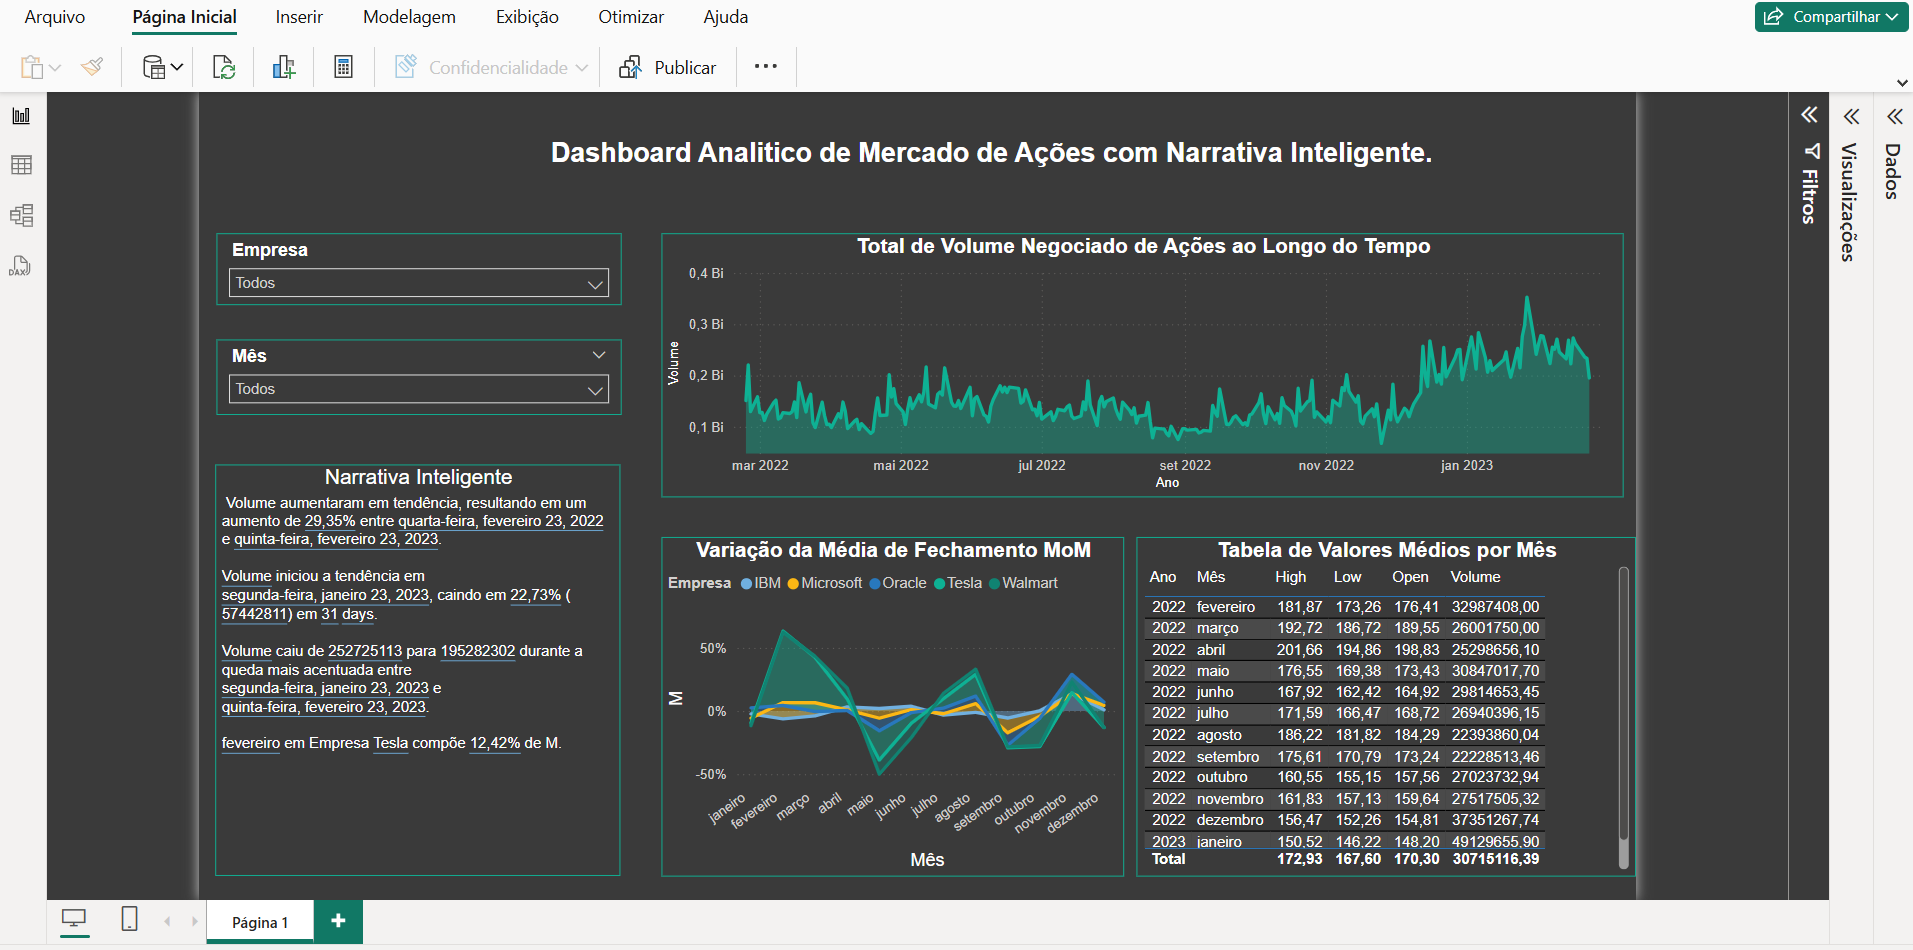

Layout of this report page (visuals, bound fields, positions):
{"tool":"powerbi","page":{"name":"Página 1","canvas":[1280,720],"ordinal":0},"visuals":[{"type":"areaChart","title":"Total de Volume Negociado de Ações ao Longo do Tempo","fields":{"Category":["StockMarket.Data.Variation.Hierarquia de datas.Ano","StockMarket.Data.Variation.Hierarquia de datas.Trimestre","StockMarket.Data.Variation.Hierarquia de datas.Mês","StockMarket.Data.Variation.Hierarquia de datas.Dia"],"Y":["Sum(StockMarket.Volume)"]},"box":[411.9,125.4,856.7,235.2],"z":0},{"type":"stackedAreaChart","title":"Variação da Média de Fechamento MoM","fields":{"Category":["StockMarket.Data.Variation.Hierarquia de datas.Mês"],"Series":["StockMarket.Empresa"],"Y":["StockMarket.Média de Close MoM%"]},"box":[411.9,396.3,411.9,302.2],"z":1000},{"type":"slicer","fields":{"Values":["StockMarket.Data.Variation.Hierarquia de datas.Mês"]},"box":[15.7,220.9,360.6,67],"z":2000},{"type":"slicer","fields":{"Values":["StockMarket.Empresa"]},"box":[15.7,125.4,360.6,64.1],"z":3000},{"type":"textbox","box":[205.3,35.6,1002,71.3],"z":4000},{"type":"tableEx","title":"Tabela de Valores Médios por Mês","fields":{"Values":["StockMarket.Data.Variation.Hierarquia de datas.Ano","StockMarket.Data.Variation.Hierarquia de datas.Mês","Avg(StockMarket.High)","Avg(StockMarket.Low)","Avg(StockMarket.Open)","Avg(StockMarket.Volume)"]},"box":[835.3,396.3,444.7,302.2],"z":5000},{"type":"textbox","title":"Narrativa Inteligente ","box":[14.3,332.1,360.6,366.3],"z":6000}]}

Visuals, with their boxes on the page's 1280x720 design canvas (x1, y1, x2, y2). These are canvas units, not pixel positions in the 1913x950 screenshot, which may show the page scaled, cropped or inside an application window:
"Total de Volume Negociado de Ações ao Longo do Tempo" areaChart: <region>412, 125, 1269, 361</region>
"Variação da Média de Fechamento MoM" stackedAreaChart: <region>412, 396, 824, 698</region>
slicer - StockMarket.Data.Variation.Hierarquia de datas.Mês: <region>16, 221, 376, 288</region>
slicer - StockMarket.Empresa: <region>16, 125, 376, 190</region>
textbox: <region>205, 36, 1207, 107</region>
"Tabela de Valores Médios por Mês" tableEx: <region>835, 396, 1280, 698</region>
"Narrativa Inteligente " textbox: <region>14, 332, 375, 698</region>
